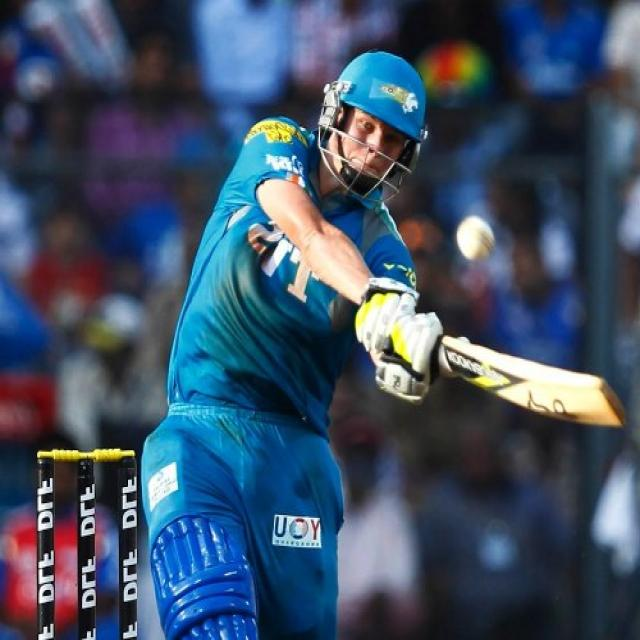ball: (453, 212, 497, 260)
stump: (36, 447, 139, 640)
